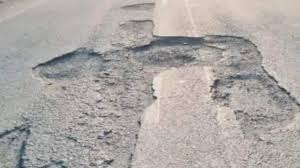potholes: (29, 41, 108, 87)
